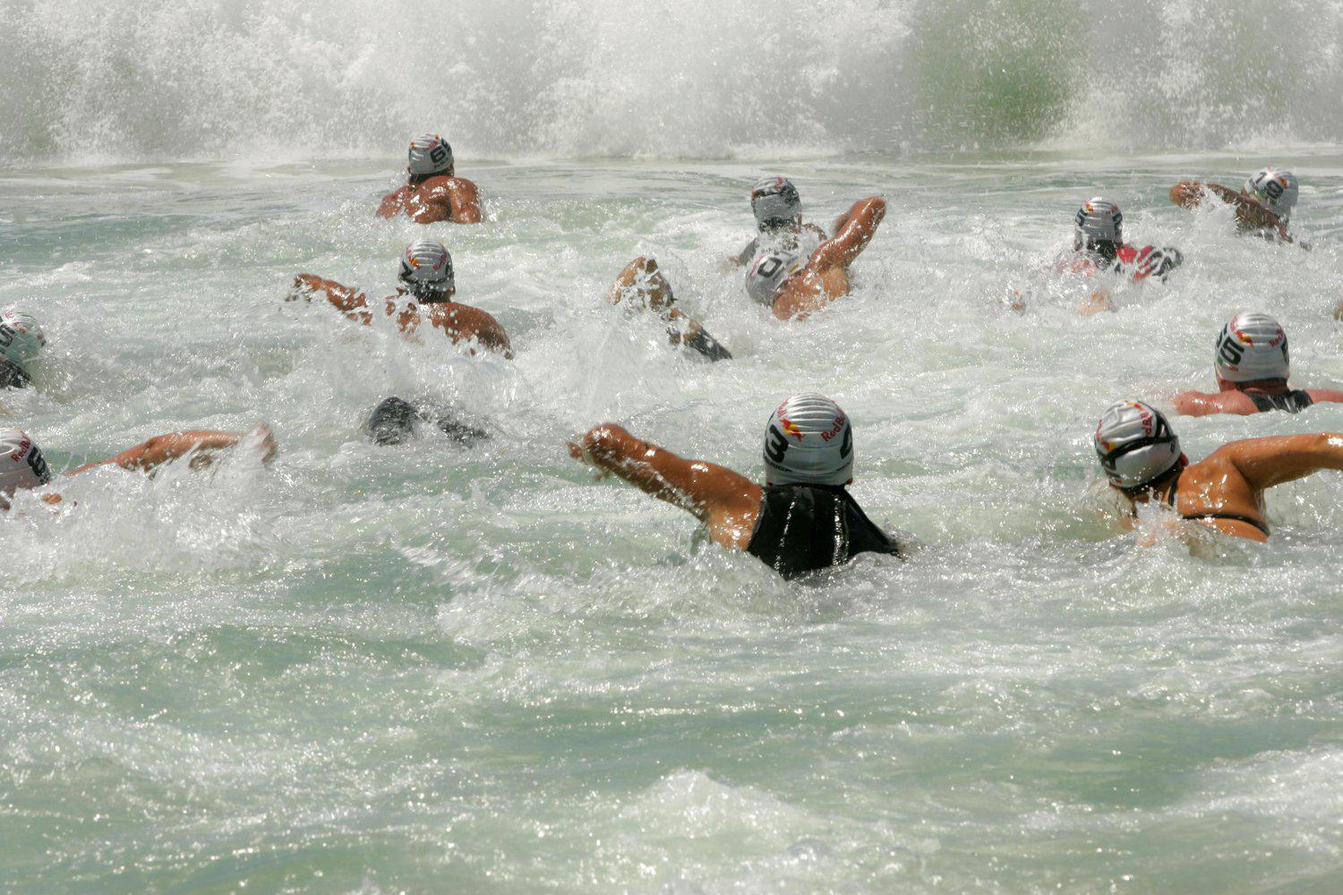swimmer: (568, 378, 900, 577), (1084, 382, 1343, 593), (0, 394, 288, 521), (279, 238, 512, 375), (1135, 303, 1343, 422), (731, 183, 904, 322), (1028, 190, 1174, 309), (358, 129, 483, 232), (1145, 154, 1295, 233)
